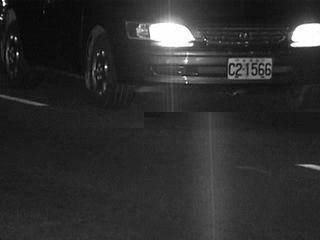plate: (228, 57, 274, 81)
